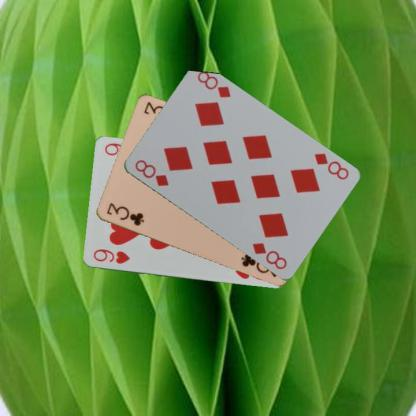3c: (104, 200, 146, 228)
8d: (132, 156, 170, 187), (311, 151, 349, 182)
9h: (90, 246, 131, 265)
